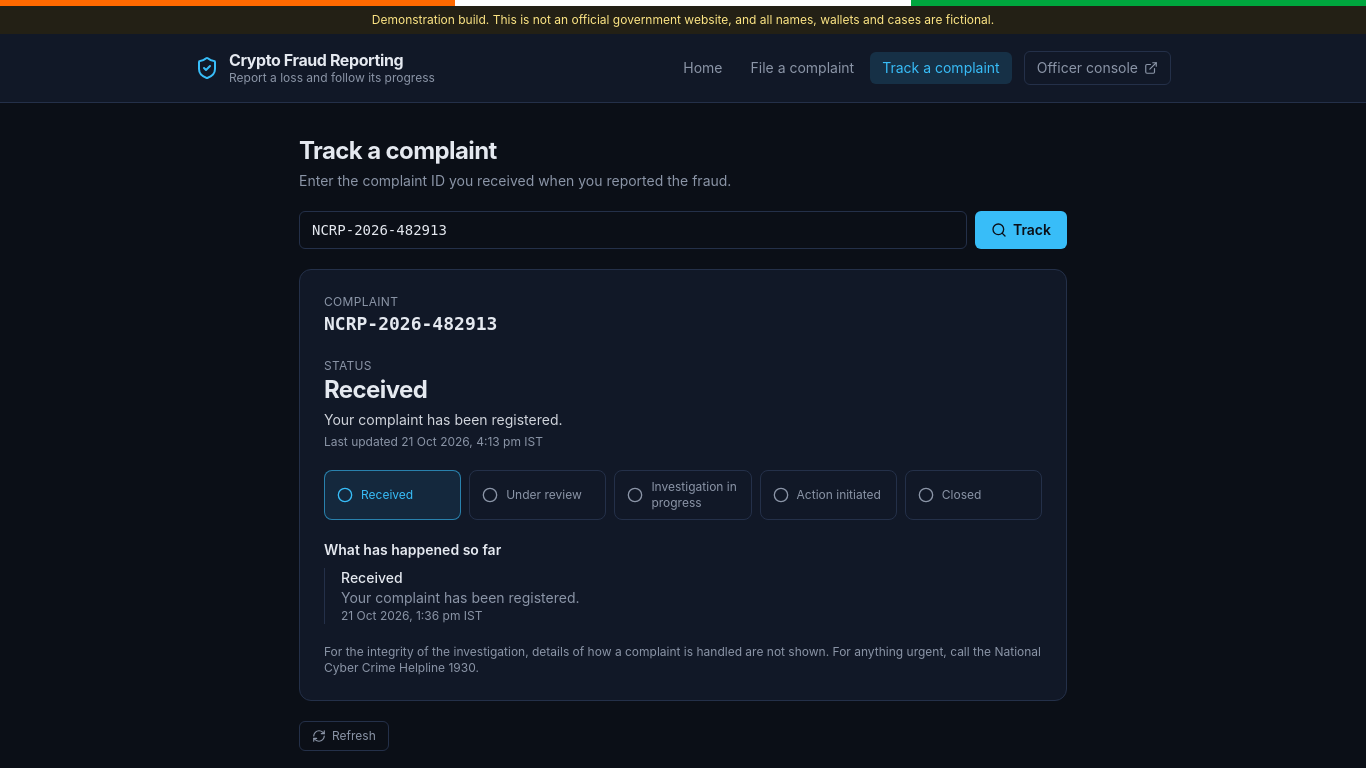
Test case: keeping the status fresh › refreshes on request
Expected: the heading "Received" is shown, [324,375,427,404]
Click the button "Refresh".
click(344, 736)  # box [299,721,389,751]
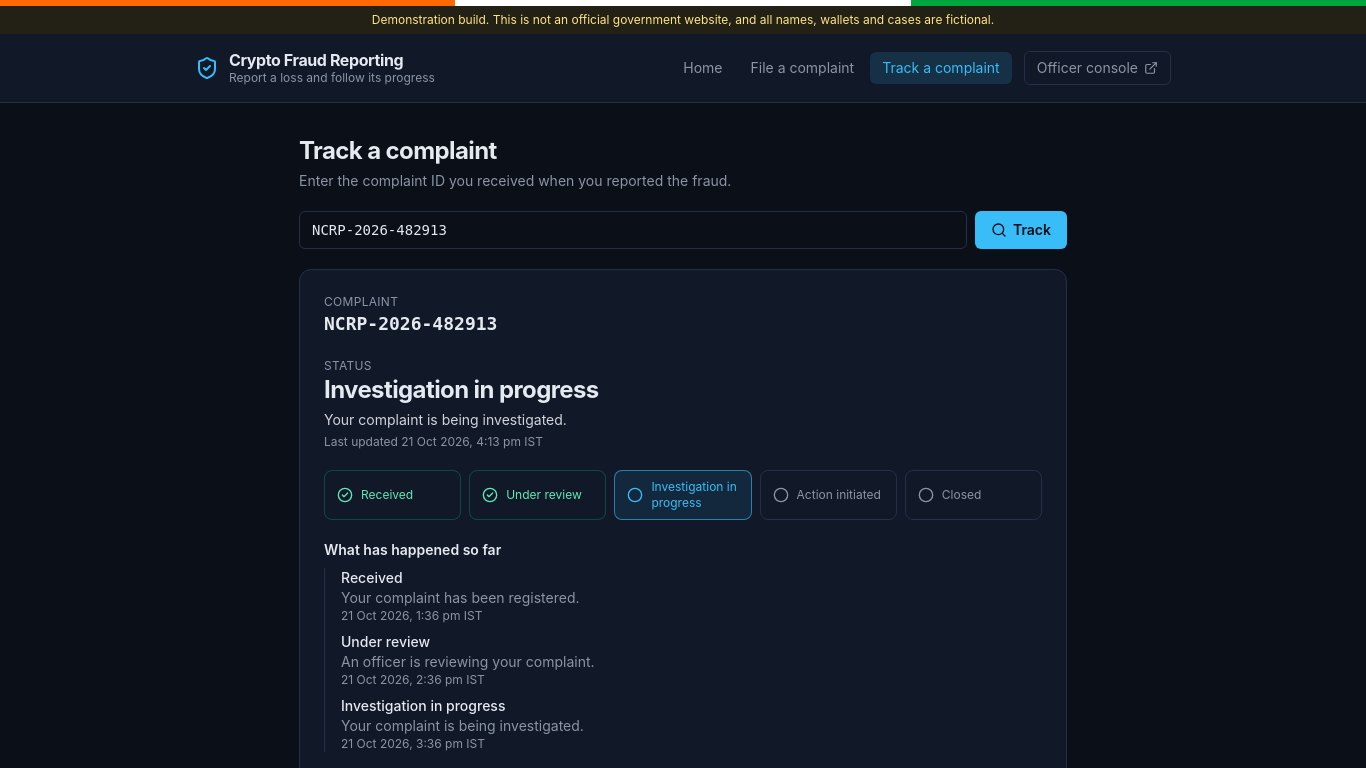
Now the heading "Investigation in progress" is shown, box [324,375,599,404]
